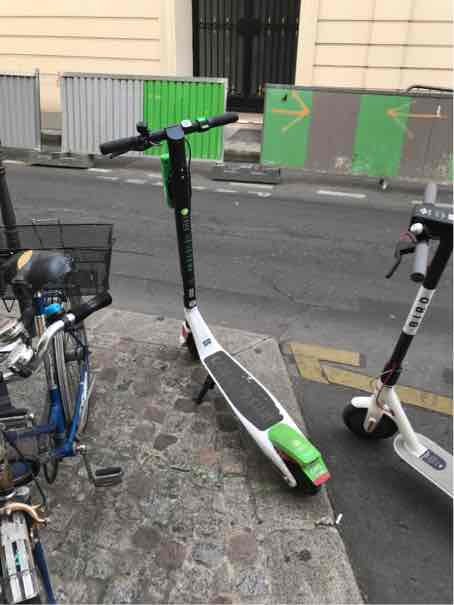scooter: (90, 111, 338, 503)
